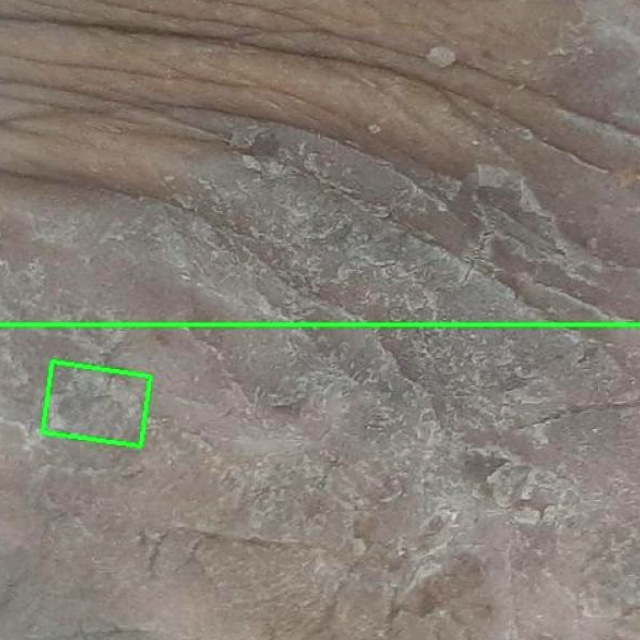Eczema: (0, 0, 639, 324), (41, 362, 149, 447)
